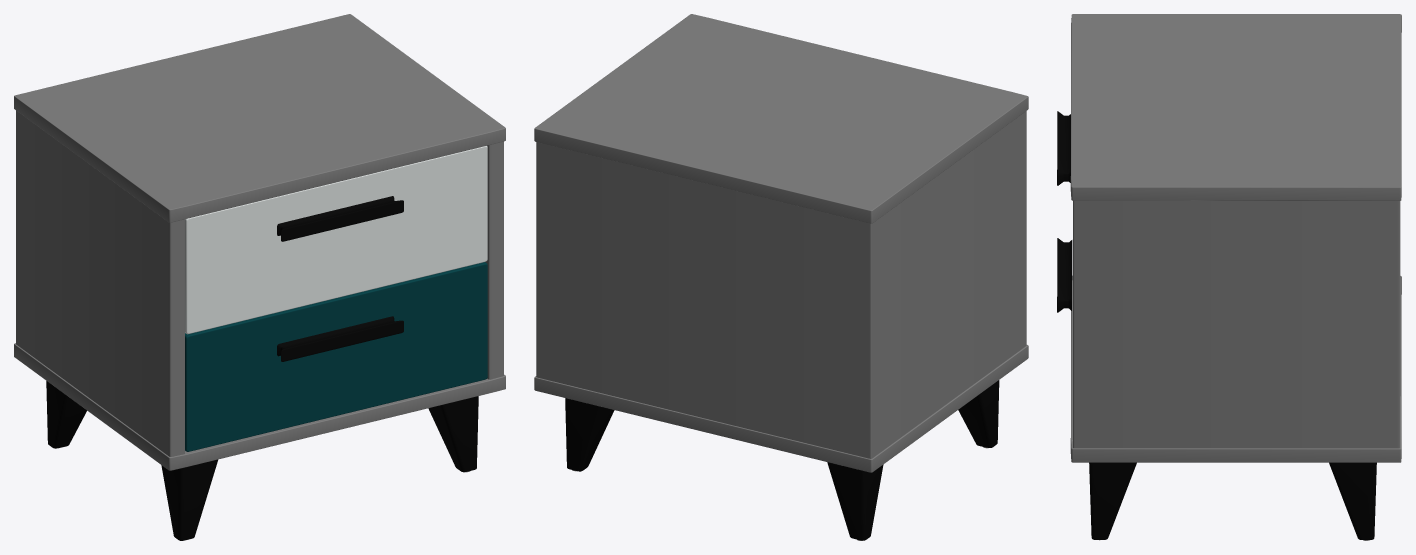
File: Bedside_table_Brandon_41353__vray.fbx
3 views of the same model, side by side, from view 1: azimuth 30°, elevation 25°; view 2: azimuth 150°, elevation 25°; view 3: azimuth 270°, elevation 25° (orthographic). The views are drawn at different scales.
Parts seen in each view (by area): view 1: Bedside_table_Brandon_41353_001; view 2: Bedside_table_Brandon_41353_001; view 3: Bedside_table_Brandon_41353_001.
Boxes of the visible parts, x1,y1,x2,y2 form: Bedside_table_Brandon_41353_001: (14, 14, 505, 540); Bedside_table_Brandon_41353_001: (534, 14, 1028, 540); Bedside_table_Brandon_41353_001: (1057, 14, 1401, 540).
Bounding box in the file's own units: 501 × 490 × 420.
